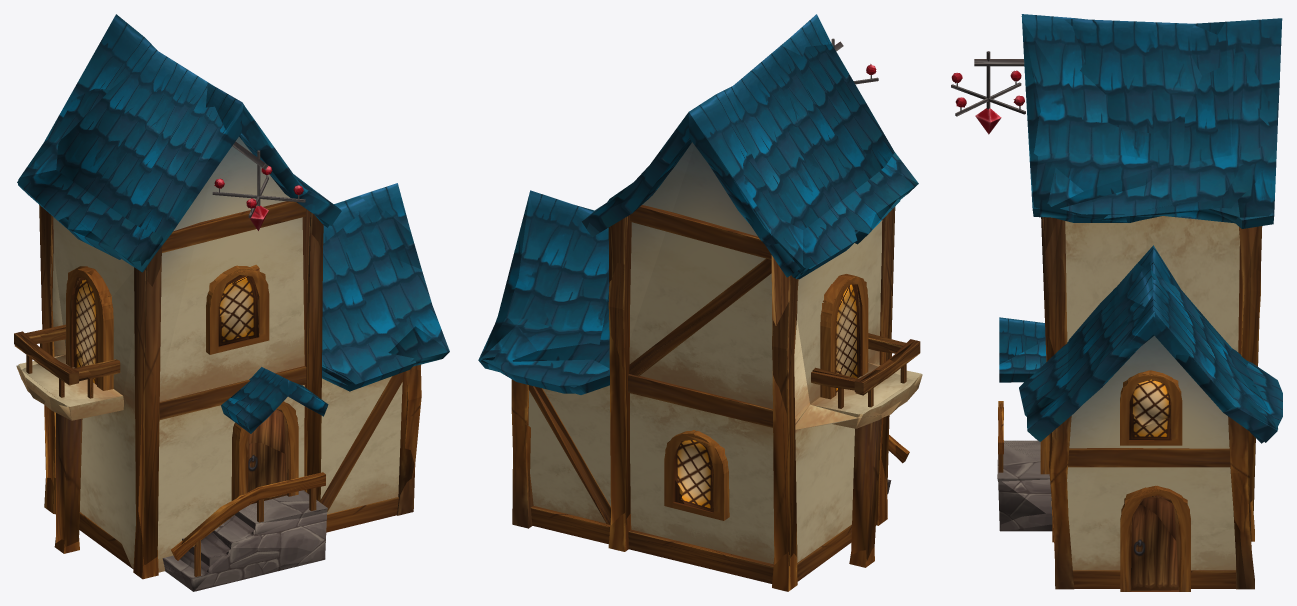
File: FantasyHouse.fbx
3 views of the same model, side by side, from view 1: azimuth 30°, elevation 25°; view 2: azimuth 150°, elevation 25°; view 3: azimuth 270°, elevation 25° (orthographic). The views are drawn at different scales.
Visible parts, largest first — view 1: Fantasy_House_6, Fantasy_House_6.003, Fantasy_House_6.002, Fantasy_House_6.001; view 2: Fantasy_House_6, Fantasy_House_6.001, Fantasy_House_6.002, Fantasy_House_6.003; view 3: Fantasy_House_6, Fantasy_House_6.002, Fantasy_House_6.001, Fantasy_House_6.003.
Part boxes in pixels (<box>): Fantasy_House_6: <box>14,83,449,591</box>; Fantasy_House_6.003: <box>17,52,398,575</box>; Fantasy_House_6.002: <box>14,14,449,575</box>; Fantasy_House_6.001: <box>14,104,421,591</box>; Fantasy_House_6: <box>478,14,921,591</box>; Fantasy_House_6.001: <box>479,41,920,590</box>; Fantasy_House_6.002: <box>480,64,922,577</box>; Fantasy_House_6.003: <box>481,39,894,562</box>; Fantasy_House_6: <box>951,14,1282,591</box>; Fantasy_House_6.002: <box>954,18,1282,591</box>; Fantasy_House_6.001: <box>951,16,1282,591</box>; Fantasy_House_6.003: <box>955,18,1277,540</box>.
Size of the model in its own units: 741 by 914 by 571.
4 materials, 4 textured.
